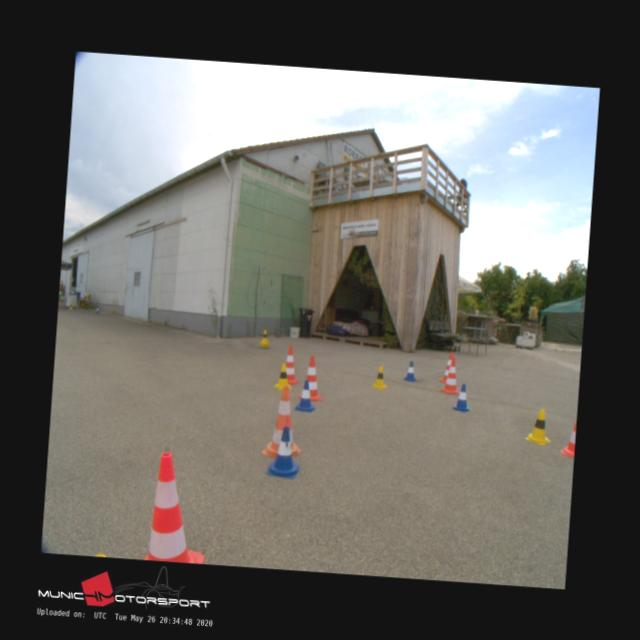blue_cone: (266, 424, 300, 478), (293, 379, 315, 411), (451, 382, 471, 411), (402, 360, 416, 380)
large_orange_cone: (142, 451, 210, 563), (260, 383, 305, 460), (297, 354, 325, 401), (440, 356, 460, 392), (282, 344, 300, 382), (440, 350, 457, 382)
yellow_cone: (524, 406, 552, 444), (274, 363, 292, 389), (370, 365, 388, 388), (260, 328, 268, 342)
